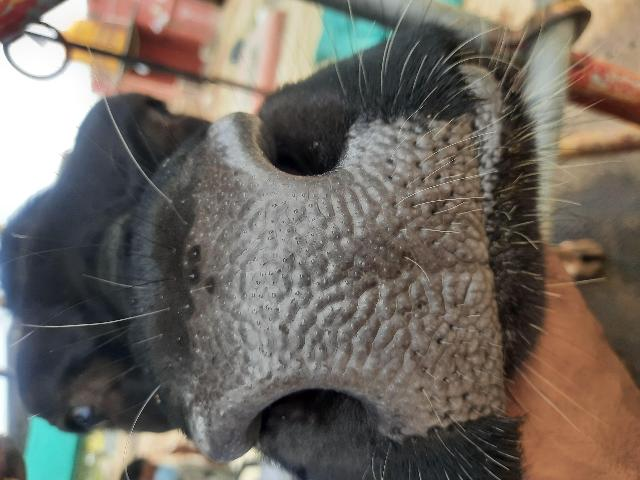Muzzle: (226, 182, 492, 380)
